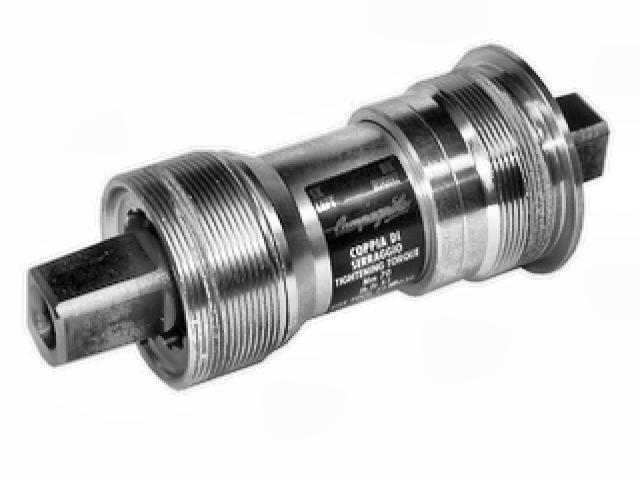bottom_bracket: (23, 42, 610, 394)
